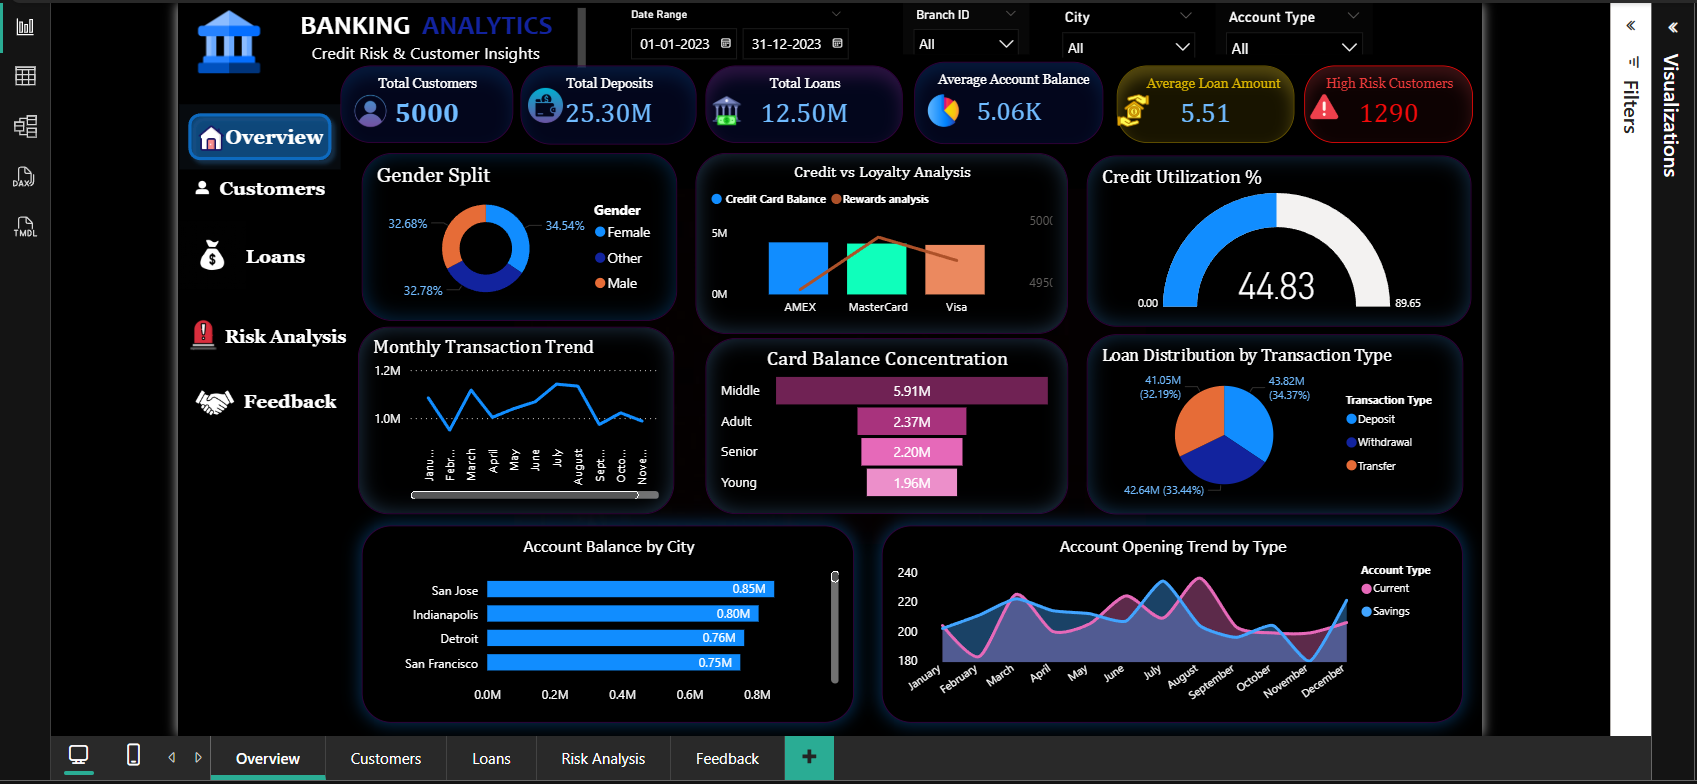

Layout of this report page (visuals, bound fields, positions):
{"tool":"powerbi","page":{"name":"Overview","canvas":[1280,720],"ordinal":0},"visuals":[{"type":"image","box":[7.4,7.4,85.9,61.4],"z":0},{"type":"textbox","box":[85.9,0,319,74.8],"z":1000},{"type":"slicer","fields":{"Values":["Banking_Analysis.Transaction Date"]},"box":[431.9,0,231.9,61.4],"z":2000},{"type":"slicer","fields":{"Values":["Banking_Analysis.Branch ID"]},"box":[711.7,0,123.9,50.3],"z":3000},{"type":"slicer","fields":{"Values":["Banking_Analysis.Account Type"]},"box":[1018.4,0,154.6,50.3],"z":4000},{"type":"slicer","fields":{"Values":["Banking_Analysis.City"]},"box":[857.7,0,150.9,54],"z":5000},{"type":"card","title":"Total Customers","fields":{"Values":["Banking_Analysis.Total Customers"]},"box":[159.5,61.4,169.3,76.1],"z":6000},{"type":"card","title":"Total Deposits","fields":{"Values":["Banking_Analysis.Total Deposits"]},"box":[336.2,61.4,173,77.3],"z":7000},{"type":"card","title":"Total Loans","fields":{"Values":["Banking_Analysis.Total Loans"]},"box":[517.8,61.4,193.9,76.1],"z":8000},{"type":"card","title":"High Risk Customers","fields":{"Values":["Banking_Analysis.High Risk Customers"]},"box":[1105.5,61.4,165.6,76.1],"z":9000},{"type":"card","title":"Average Account Balance","fields":{"Values":["Banking_Analysis.Average Balance"]},"box":[722.7,57.7,185.3,81],"z":10000},{"type":"card","title":"Average Loan Amount","fields":{"Values":["Banking_Analysis.Average Loan"]},"box":[921.5,61.4,174.2,76.1],"z":11000},{"type":"actionButton","box":[1.2,99.4,158.3,63.8],"z":12000},{"type":"actionButton","box":[0,149.7,148.5,63.8],"z":13000},{"type":"actionButton","box":[0,217.2,128.8,63.8],"z":14000},{"type":"actionButton","box":[1.2,295.7,168.1,63.8],"z":15000},{"type":"actionButton","box":[1.2,359.5,158.3,63.8],"z":16000},{"type":"image","box":[7.4,158.3,33.1,45.4],"z":17000},{"type":"image","box":[0,213.5,66.3,67.5],"z":18000},{"type":"image","box":[7.4,359.5,57.7,65],"z":19000},{"type":"image","box":[343.6,78.5,34.4,44.2],"z":20000},{"type":"image","box":[169.3,89.6,39.3,33.1],"z":21000},{"type":"image","box":[517.8,90.8,41.7,29.4],"z":22000},{"type":"image","box":[728.8,89.6,45.4,31.9],"z":23000},{"type":"image","box":[908,89.6,58.9,31.9],"z":24000},{"type":"image","box":[1105.5,78.5,39.3,46.6],"z":25000},{"type":"donutChart","title":"Gender Split","fields":{"Category":["Banking_Analysis.Gender"],"Y":["CountNonNull(Banking_Analysis.Customer ID)"]},"box":[180.4,147.2,309.2,164.4],"z":26000},{"type":"clusteredBarChart","title":"Account Balance by City","fields":{"Y":["Sum(Banking_Analysis.Account Balance)"],"Category":["Banking_Analysis.City"]},"box":[180.4,512.9,483.4,193.9],"z":27000},{"type":"lineChart","title":"Monthly Transaction Trend","fields":{"Category":["Banking_Analysis.Transaction Date.Variation.Date Hierarchy.Month"],"Y":["Sum(Banking_Analysis.Transaction Amount)"]},"box":[176.7,317.8,310.4,184.1],"z":28000},{"type":"pieChart","title":"Loan Distribution by Transaction Type","fields":{"Category":["Banking_Analysis.Transaction Type"],"Y":["Sum(Banking_Analysis.Loan Amount)"]},"box":[892,325.2,369.3,176.7],"z":29000},{"type":"gauge","fields":{"Y":["Banking_Analysis.Credit Utilization %"]},"box":[892,149.7,377.9,168.1],"z":30000},{"type":"funnel","title":"Card Balance Concentration","fields":{"Category":["Banking_Analysis.Custom"],"Y":["Sum(Banking_Analysis.Credit Card Balance)"]},"box":[517.8,328.8,355.8,173],"z":31000},{"type":"lineClusteredColumnComboChart","title":" Credit vs Loyalty Analysis","fields":{"Y":["Sum(Banking_Analysis.Credit Card Balance)"],"Y2":["Avg(Banking_Analysis.Rewards Points)"],"Category":["Banking_Analysis.Card Type"]},"box":[508,147.2,365.6,177.9],"z":32000},{"type":"areaChart","title":"Account Opening Trend by Type","fields":{"Category":["Banking_Analysis.Transaction Date.Variation.Date Hierarchy.Month"],"Y":["CountNonNull(Banking_Analysis.Date Of Account Opening)"],"Series":["Banking_Analysis.Account Type"]},"box":[690.8,512.9,570.6,193.9],"z":33000},{"type":"image","box":[14.7,120.2,35.6,24.5],"z":34000},{"type":"image","box":[7.4,305.5,35.6,39.3],"z":35000}]}

Visuals, with their boxes on the page's 1280x720 design canvas (x1, y1, x2, y2). These are canvas units, not pixel positions in the 1697x784 screenshot, which may show the page scaled, cropped or inside an application window:
image: l=7, t=7, r=93, b=69
textbox: l=86, t=0, r=405, b=75
slicer - Banking_Analysis.Transaction Date: l=432, t=0, r=664, b=61
slicer - Banking_Analysis.Branch ID: l=712, t=0, r=836, b=50
slicer - Banking_Analysis.Account Type: l=1018, t=0, r=1173, b=50
slicer - Banking_Analysis.City: l=858, t=0, r=1009, b=54
"Total Customers" card: l=160, t=61, r=329, b=138
"Total Deposits" card: l=336, t=61, r=509, b=139
"Total Loans" card: l=518, t=61, r=712, b=138
"High Risk Customers" card: l=1106, t=61, r=1271, b=138
"Average Account Balance" card: l=723, t=58, r=908, b=139
"Average Loan Amount" card: l=922, t=61, r=1096, b=138
actionButton: l=1, t=99, r=160, b=163
actionButton: l=0, t=150, r=148, b=214
actionButton: l=0, t=217, r=129, b=281
actionButton: l=1, t=296, r=169, b=360
actionButton: l=1, t=360, r=160, b=423
image: l=7, t=158, r=40, b=204
image: l=0, t=214, r=66, b=281
image: l=7, t=360, r=65, b=424
image: l=344, t=78, r=378, b=123
image: l=169, t=90, r=209, b=123
image: l=518, t=91, r=560, b=120
image: l=729, t=90, r=774, b=122
image: l=908, t=90, r=967, b=122
image: l=1106, t=78, r=1145, b=125
"Gender Split" donutChart: l=180, t=147, r=490, b=312
"Account Balance by City" clusteredBarChart: l=180, t=513, r=664, b=707
"Monthly Transaction Trend" lineChart: l=177, t=318, r=487, b=502
"Loan Distribution by Transaction Type" pieChart: l=892, t=325, r=1261, b=502
gauge - Banking_Analysis.Credit Utilization %: l=892, t=150, r=1270, b=318
"Card Balance Concentration" funnel: l=518, t=329, r=874, b=502
" Credit vs Loyalty Analysis" lineClusteredColumnComboChart: l=508, t=147, r=874, b=325
"Account Opening Trend by Type" areaChart: l=691, t=513, r=1261, b=707
image: l=15, t=120, r=50, b=145
image: l=7, t=306, r=43, b=345
